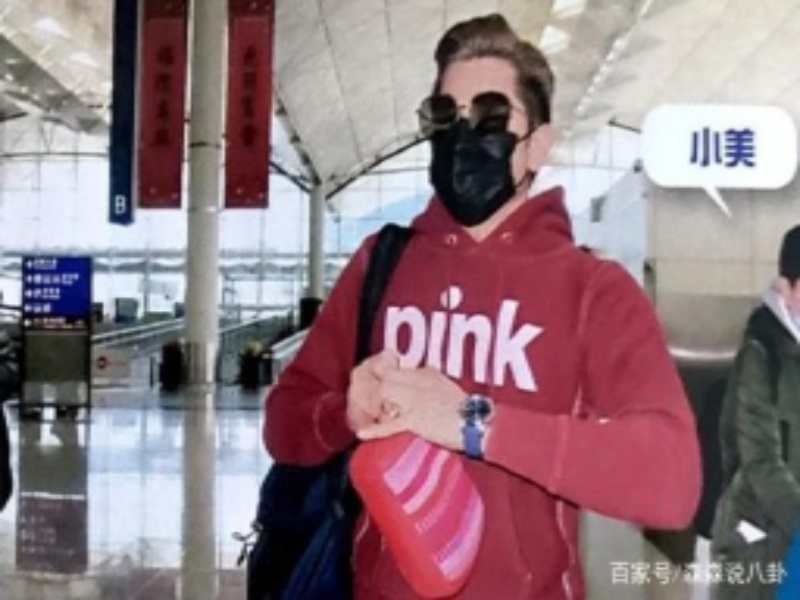ManaoArotava: (412, 15, 557, 250)
